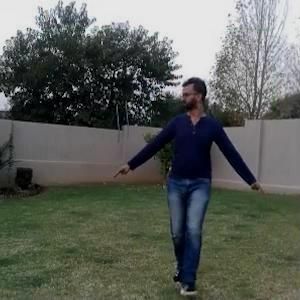land: (113, 76, 272, 285)
